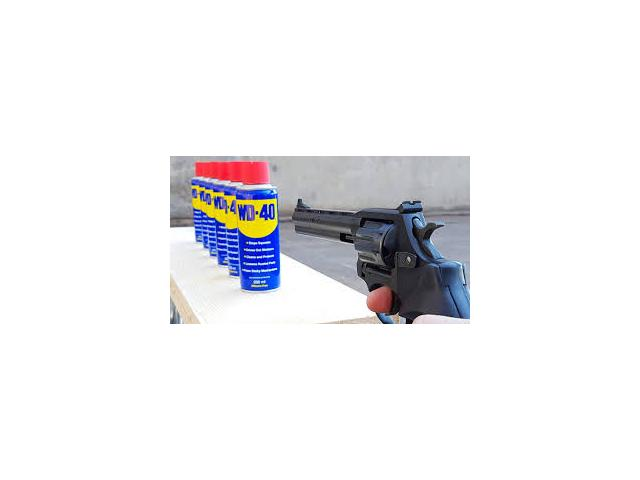pistol: (288, 196, 466, 324)
